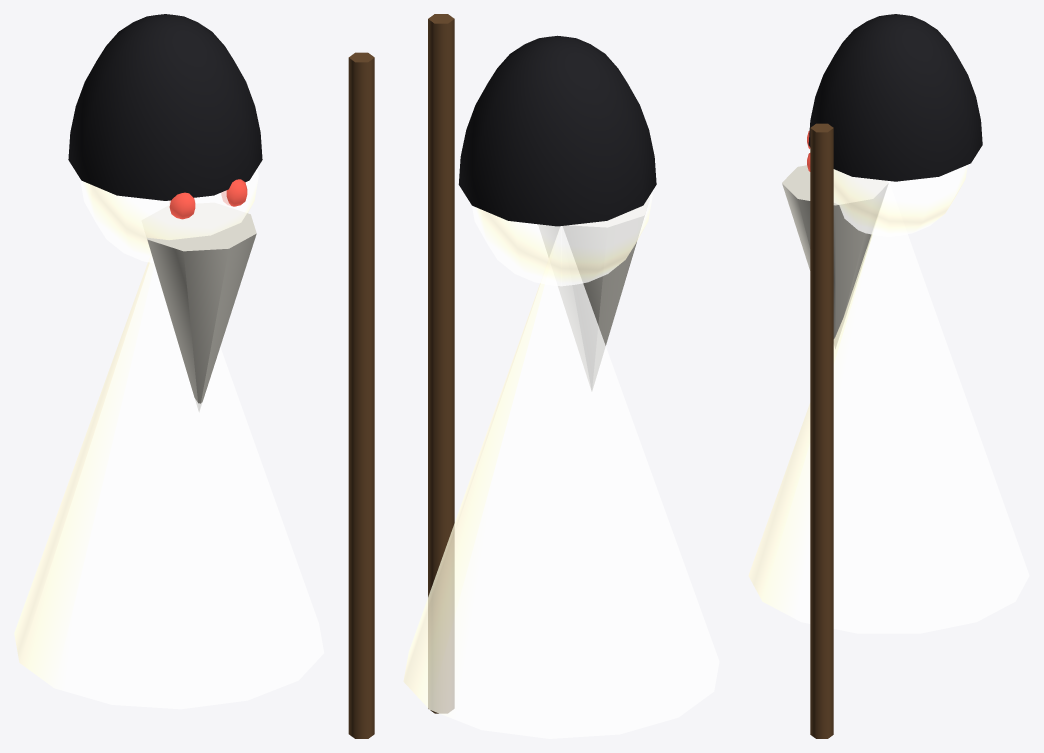
The model's file is pusom.glb.
The picture shows the model from 3 angles, left to right: view 1: azimuth 30°, elevation 25°; view 2: azimuth 150°, elevation 25°; view 3: azimuth 270°, elevation 25°; orthographic projection. The views are drawn at different scales.
Size of the model in its own units: 0.9198 by 2.14 by 0.84.
